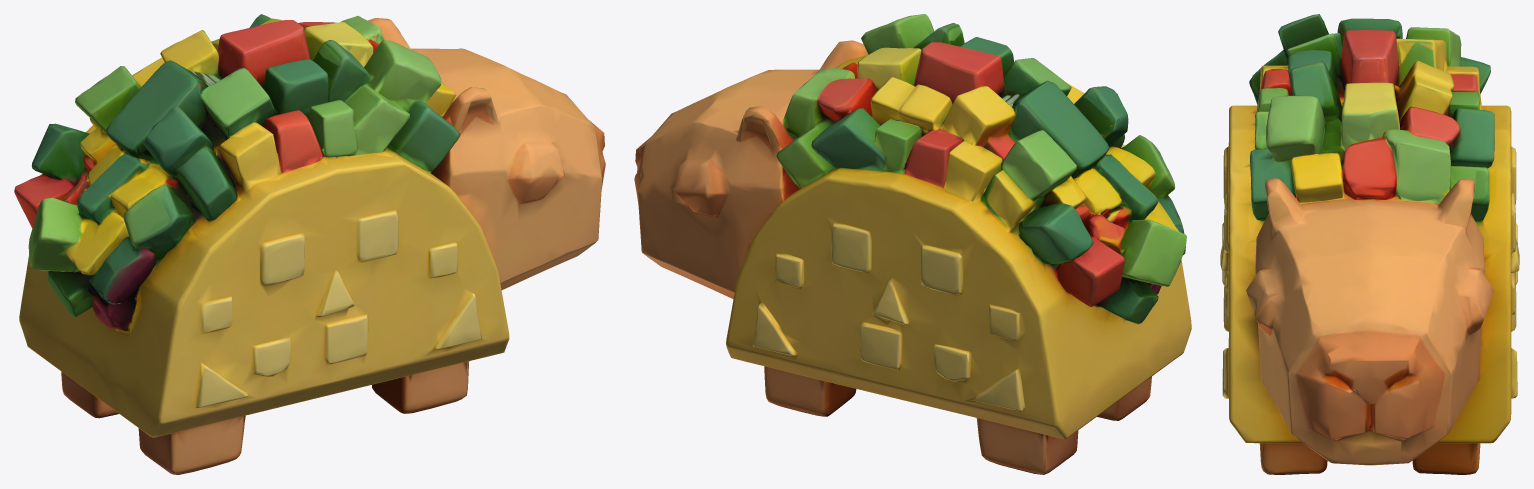
Rendered from 116-block-toy-tripo-v25-standard-15k.glb.
3 views of the same model, side by side, from view 1: azimuth 30°, elevation 25°; view 2: azimuth 150°, elevation 25°; view 3: azimuth 270°, elevation 25° (orthographic). The views are drawn at different scales.
Visible parts, largest first — view 1: tripo_node_cf95cdfd-ef90-438b-a47e-cf7d2ba2eb1b; view 2: tripo_node_cf95cdfd-ef90-438b-a47e-cf7d2ba2eb1b; view 3: tripo_node_cf95cdfd-ef90-438b-a47e-cf7d2ba2eb1b.
Part boxes in pixels (bbox=[...]): tripo_node_cf95cdfd-ef90-438b-a47e-cf7d2ba2eb1b: bbox=[14, 14, 605, 474]; tripo_node_cf95cdfd-ef90-438b-a47e-cf7d2ba2eb1b: bbox=[634, 14, 1191, 474]; tripo_node_cf95cdfd-ef90-438b-a47e-cf7d2ba2eb1b: bbox=[1220, 14, 1519, 474].
Bounding box in the file's own units: 1 × 0.6429 × 0.4713.
1 material, 1 textured.
